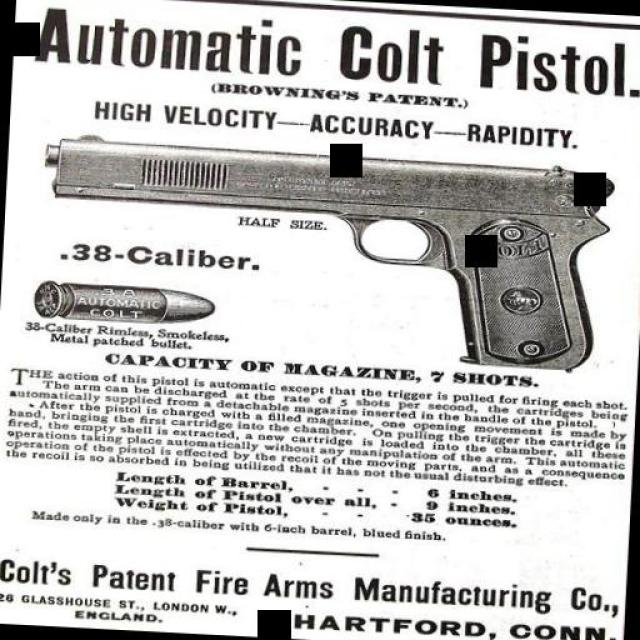gun: (22, 121, 618, 381)
